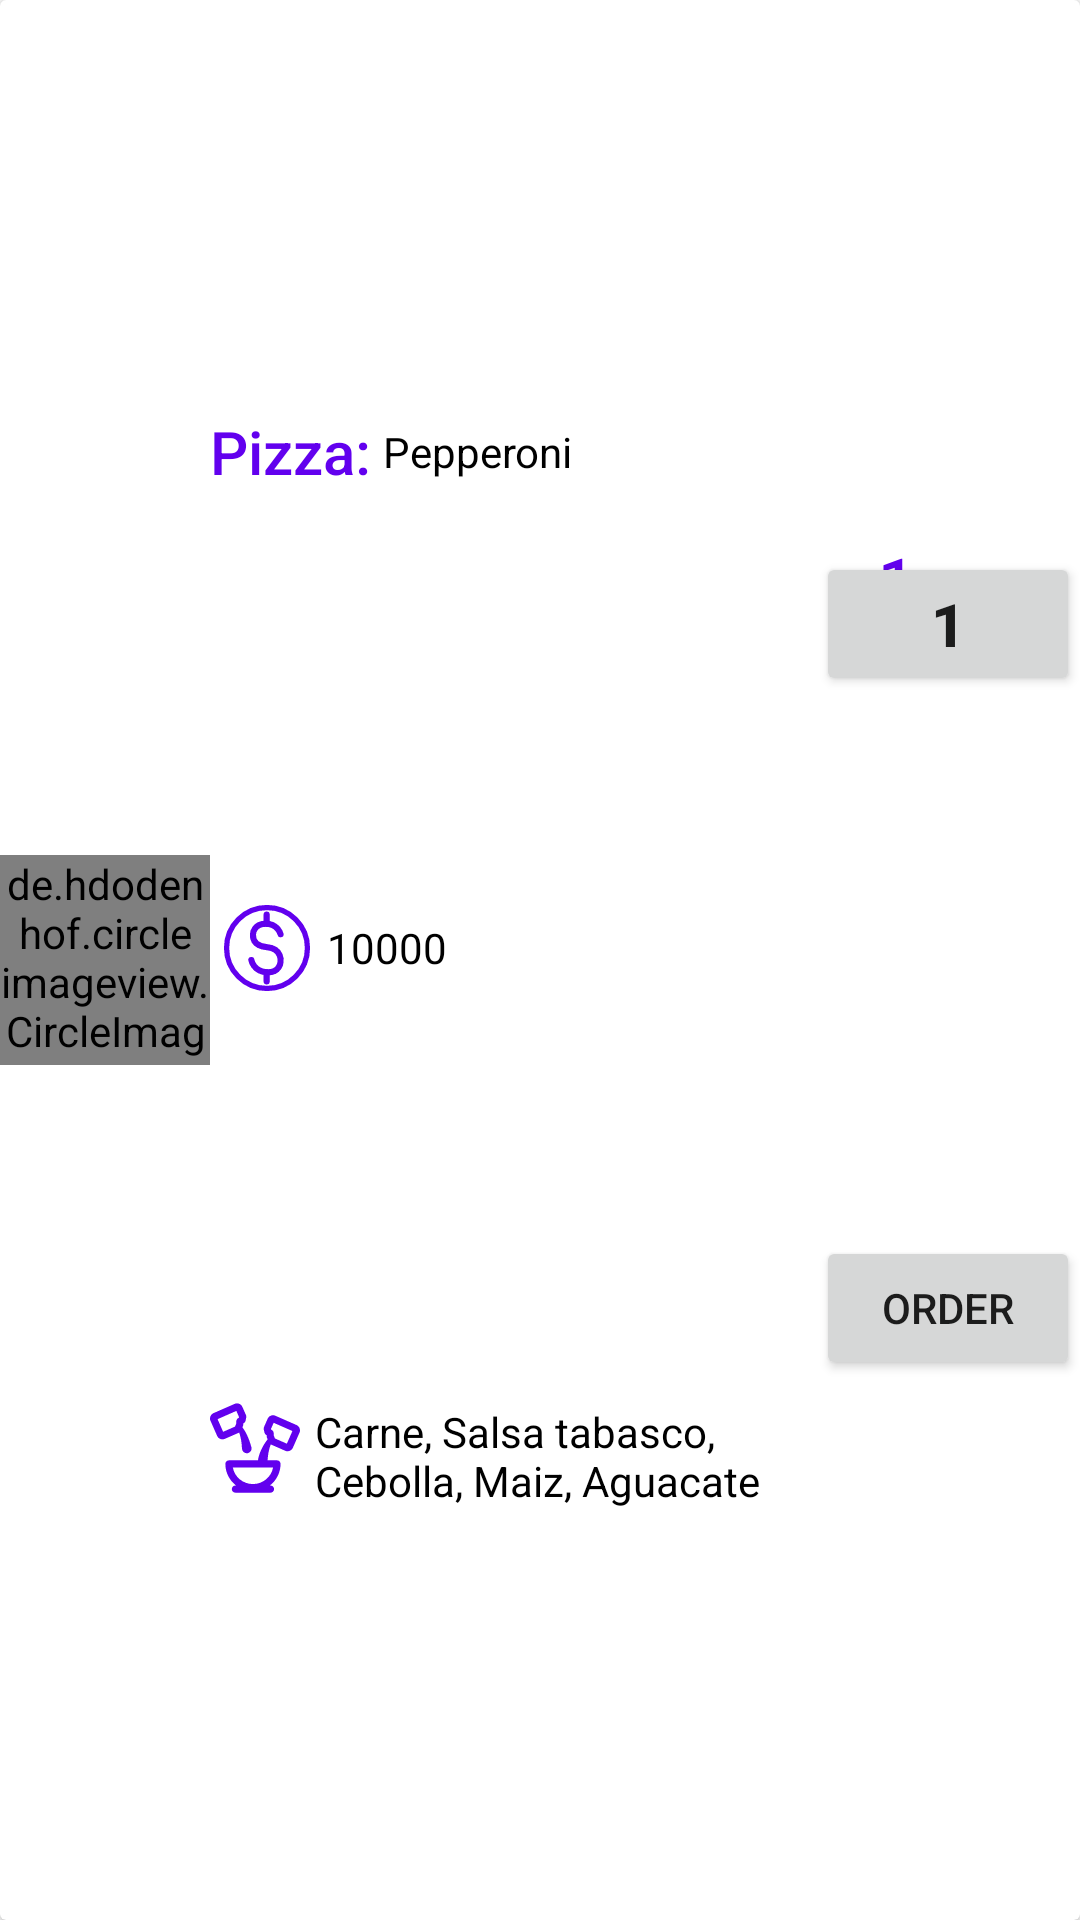

Point at icon controls on the screen. Image size 1080w x 1920h, points as (x=x, y=y).
ingredientes: (x=255, y=1448)
price: (x=267, y=948)
